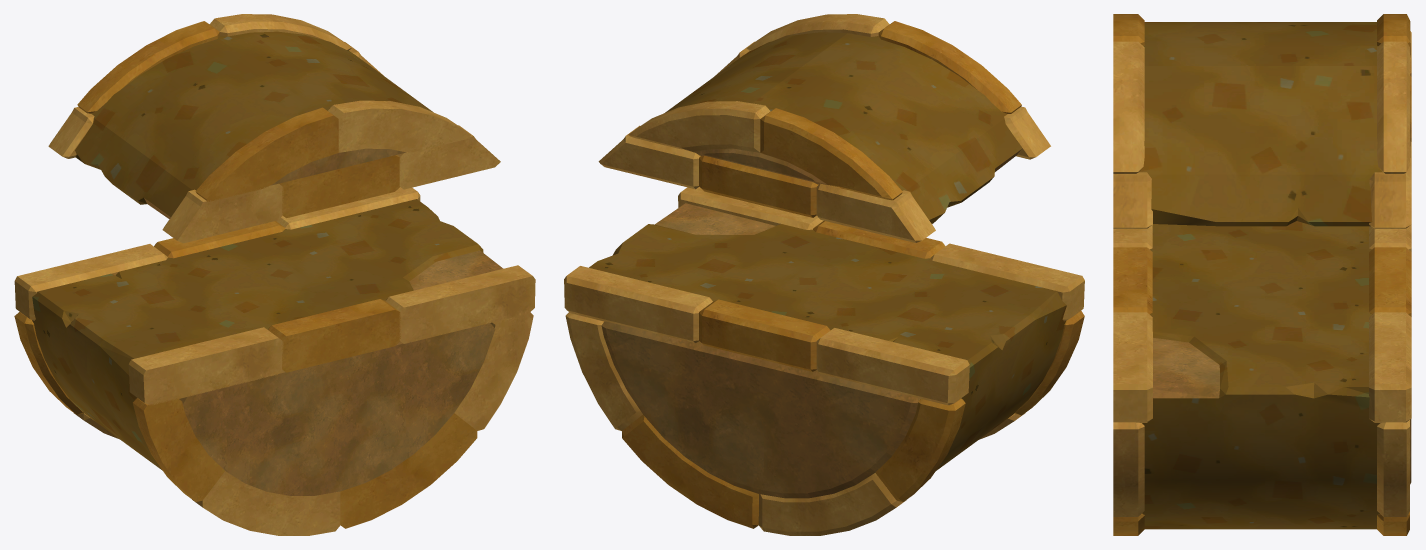
Rendered from Clock C.obj.
3 renders of one model, left to right at view 1: azimuth 30°, elevation 25°; view 2: azimuth 150°, elevation 25°; view 3: azimuth 270°, elevation 25°, orthographic. The views are drawn at different scales.
Parts seen in each view (by area): view 1: polySurface4679__Uchigawa00_AI, pCube1074__Stone02_AI, polySurface4463__Stone01_AI, pCube1075__Stone05_AI; view 2: polySurface4679__Uchigawa00_AI, pCube1074__Stone02_AI, polySurface4463__Stone01_AI, pCube1075__Stone05_AI; view 3: polySurface4679__Uchigawa00_AI, pCube1074__Stone02_AI, pCube1075__Stone05_AI, polySurface4463__Stone01_AI.
Boxes of the visible parts, x1=… form: polySurface4679__Uchigawa00_AI: x1=32, y1=31, x2=483, y2=470; pCube1074__Stone02_AI: x1=14, y1=14, x2=535, y2=535; polySurface4463__Stone01_AI: x1=144, y1=148, x2=503, y2=495; pCube1075__Stone05_AI: x1=14, y1=21, x2=477, y2=528; polySurface4679__Uchigawa00_AI: x1=589, y1=32, x2=1066, y2=470; pCube1074__Stone02_AI: x1=564, y1=14, x2=1084, y2=535; polySurface4463__Stone01_AI: x1=601, y1=148, x2=1021, y2=498; pCube1075__Stone05_AI: x1=622, y1=21, x2=1084, y2=528; polySurface4679__Uchigawa00_AI: x1=1139, y1=22, x2=1382, y2=529; pCube1074__Stone02_AI: x1=1113, y1=31, x2=1411, y2=516; pCube1075__Stone05_AI: x1=1113, y1=14, x2=1411, y2=535; polySurface4463__Stone01_AI: x1=1153, y1=337, x2=1411, y2=484.
Bounding box in the file's own units: 6.96 × 7.07 × 4.04.
Materials: 4 (4 with a texture image).
